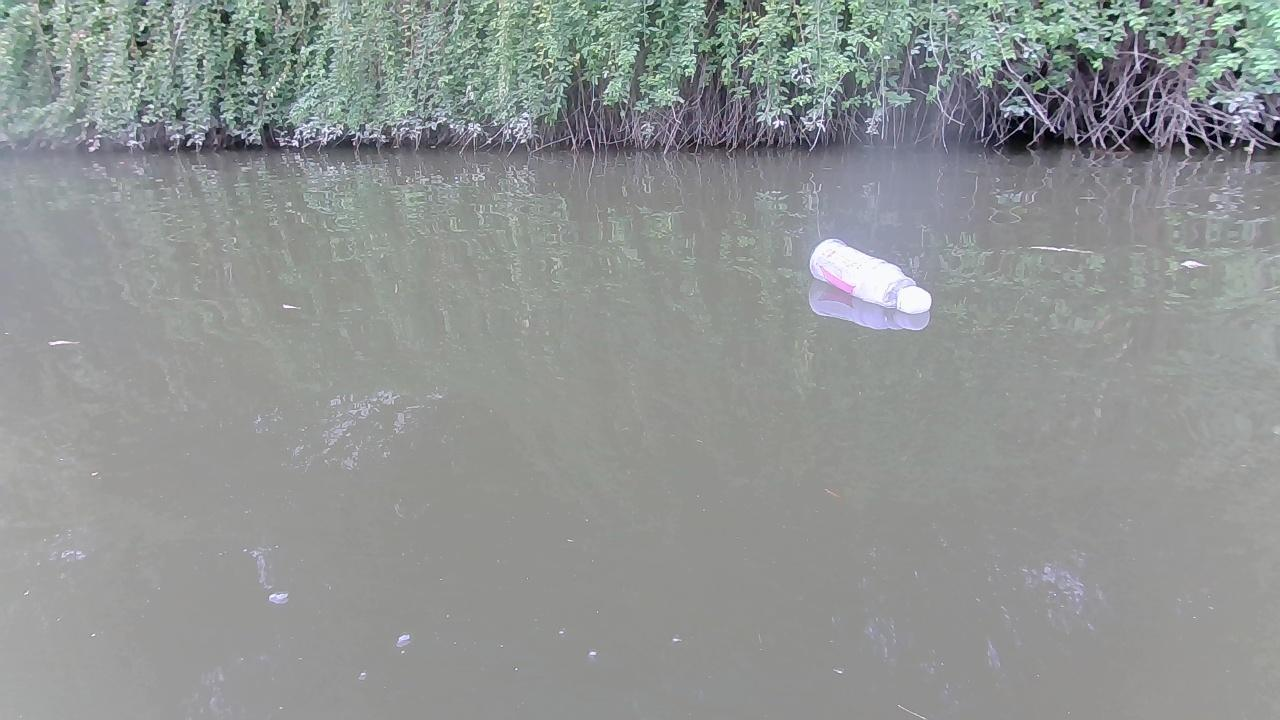bottle: (806, 235, 930, 315)
